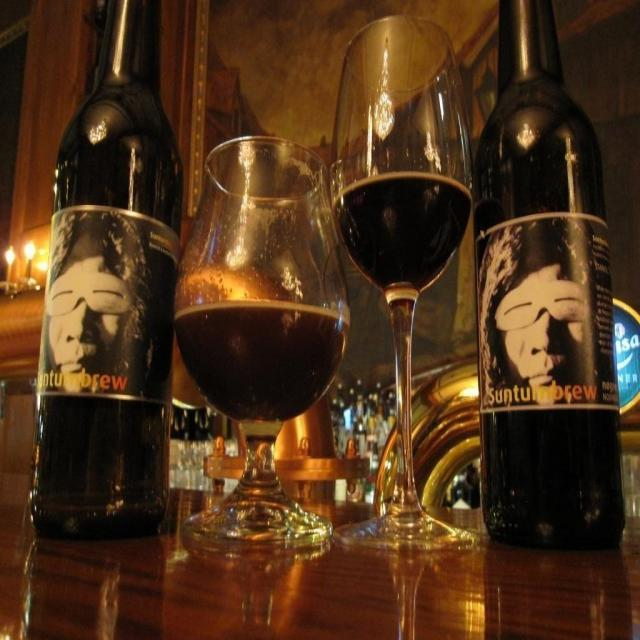bottle-glass: (26, 0, 184, 538), (469, 1, 623, 542)
glass-wine: (332, 11, 472, 547), (181, 129, 337, 554)
